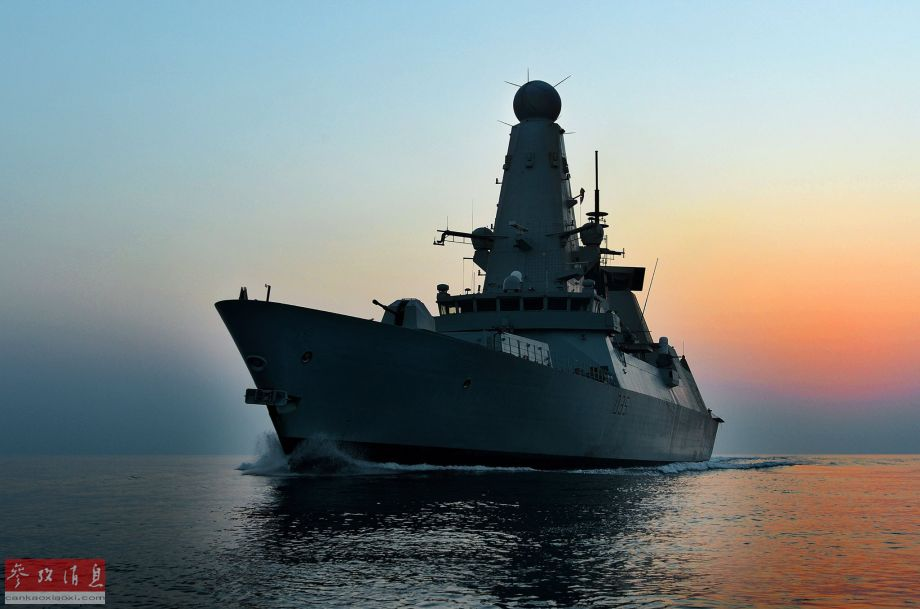warship: (204, 59, 730, 476)
